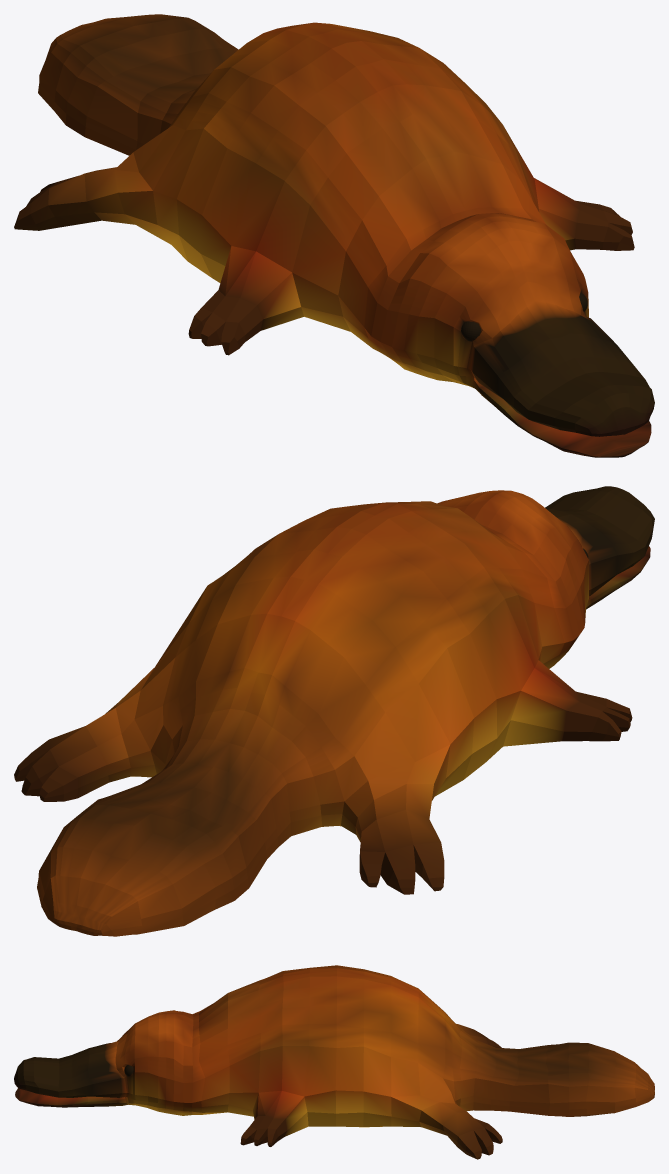
Rendered from Realistic_MEPO_GOLD.fbx.
The picture shows the model from 3 angles, top to bottom: view 1: azimuth 30°, elevation 25°; view 2: azimuth 150°, elevation 25°; view 3: azimuth 270°, elevation 25°; orthographic projection. The views are drawn at different scales.
Visible parts, largest first — view 1: Mepo_Base.003; view 2: Mepo_Base.003; view 3: Mepo_Base.003.
Part boxes in pixels (x1=…): Mepo_Base.003: x1=14, y1=14, x2=654, y2=457; Mepo_Base.003: x1=14, y1=486, x2=654, y2=936; Mepo_Base.003: x1=14, y1=965, x2=654, y2=1159.
Size of the model in its own units: 268 by 135 by 589.
